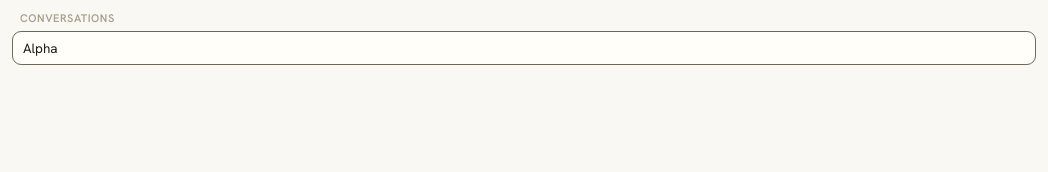
Test case: ChatConversations › the row menu › abandons a rename on Escape without writing
The image size is (1048, 172).
Earlier steps of the test are not shown.
Replace the text in the field named "Conversation name" with "typed then abandoned" at (524, 48), box [23,38,1025,58]
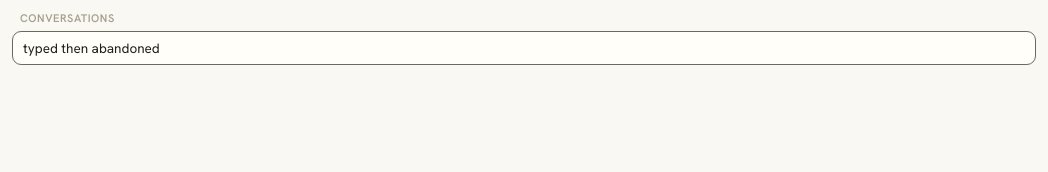
Press Escape in the field named "Conversation name", box [23,38,1025,58]
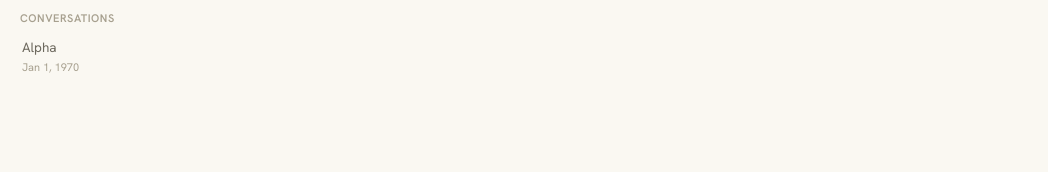
Now the text "Alpha" is shown, box [22,38,57,56]
